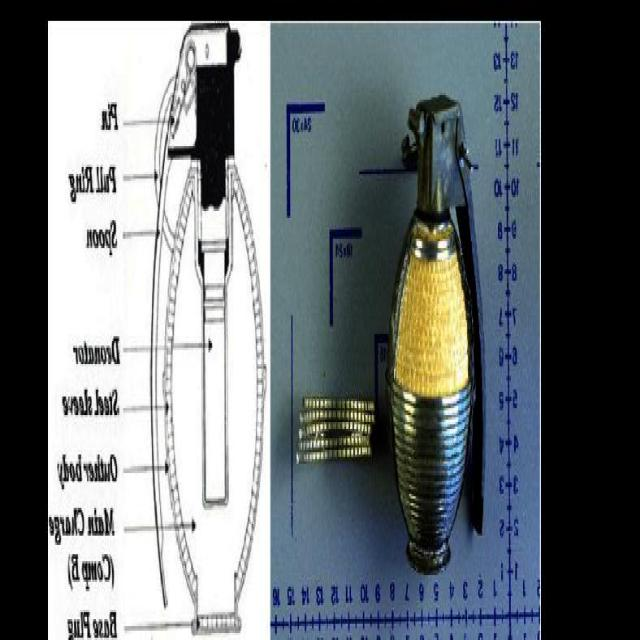grenade: (387, 94, 486, 578)
